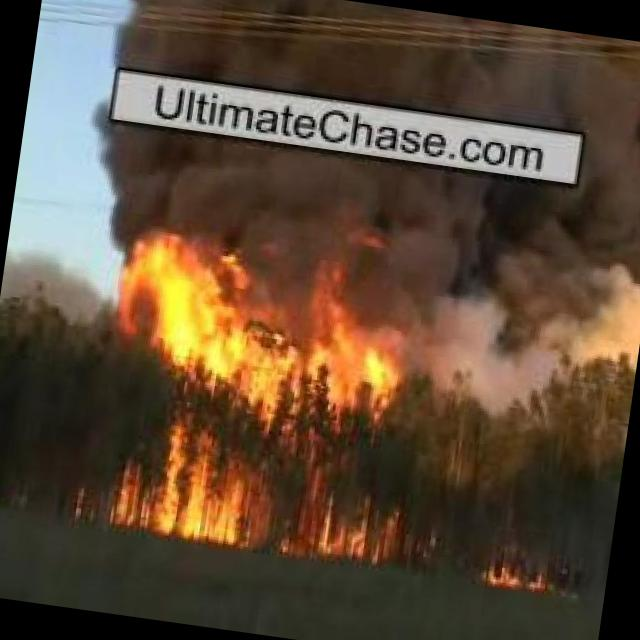Fire: (95, 213, 440, 574), (486, 556, 556, 596)
Smoke: (84, 115, 640, 297), (118, 0, 640, 138)
